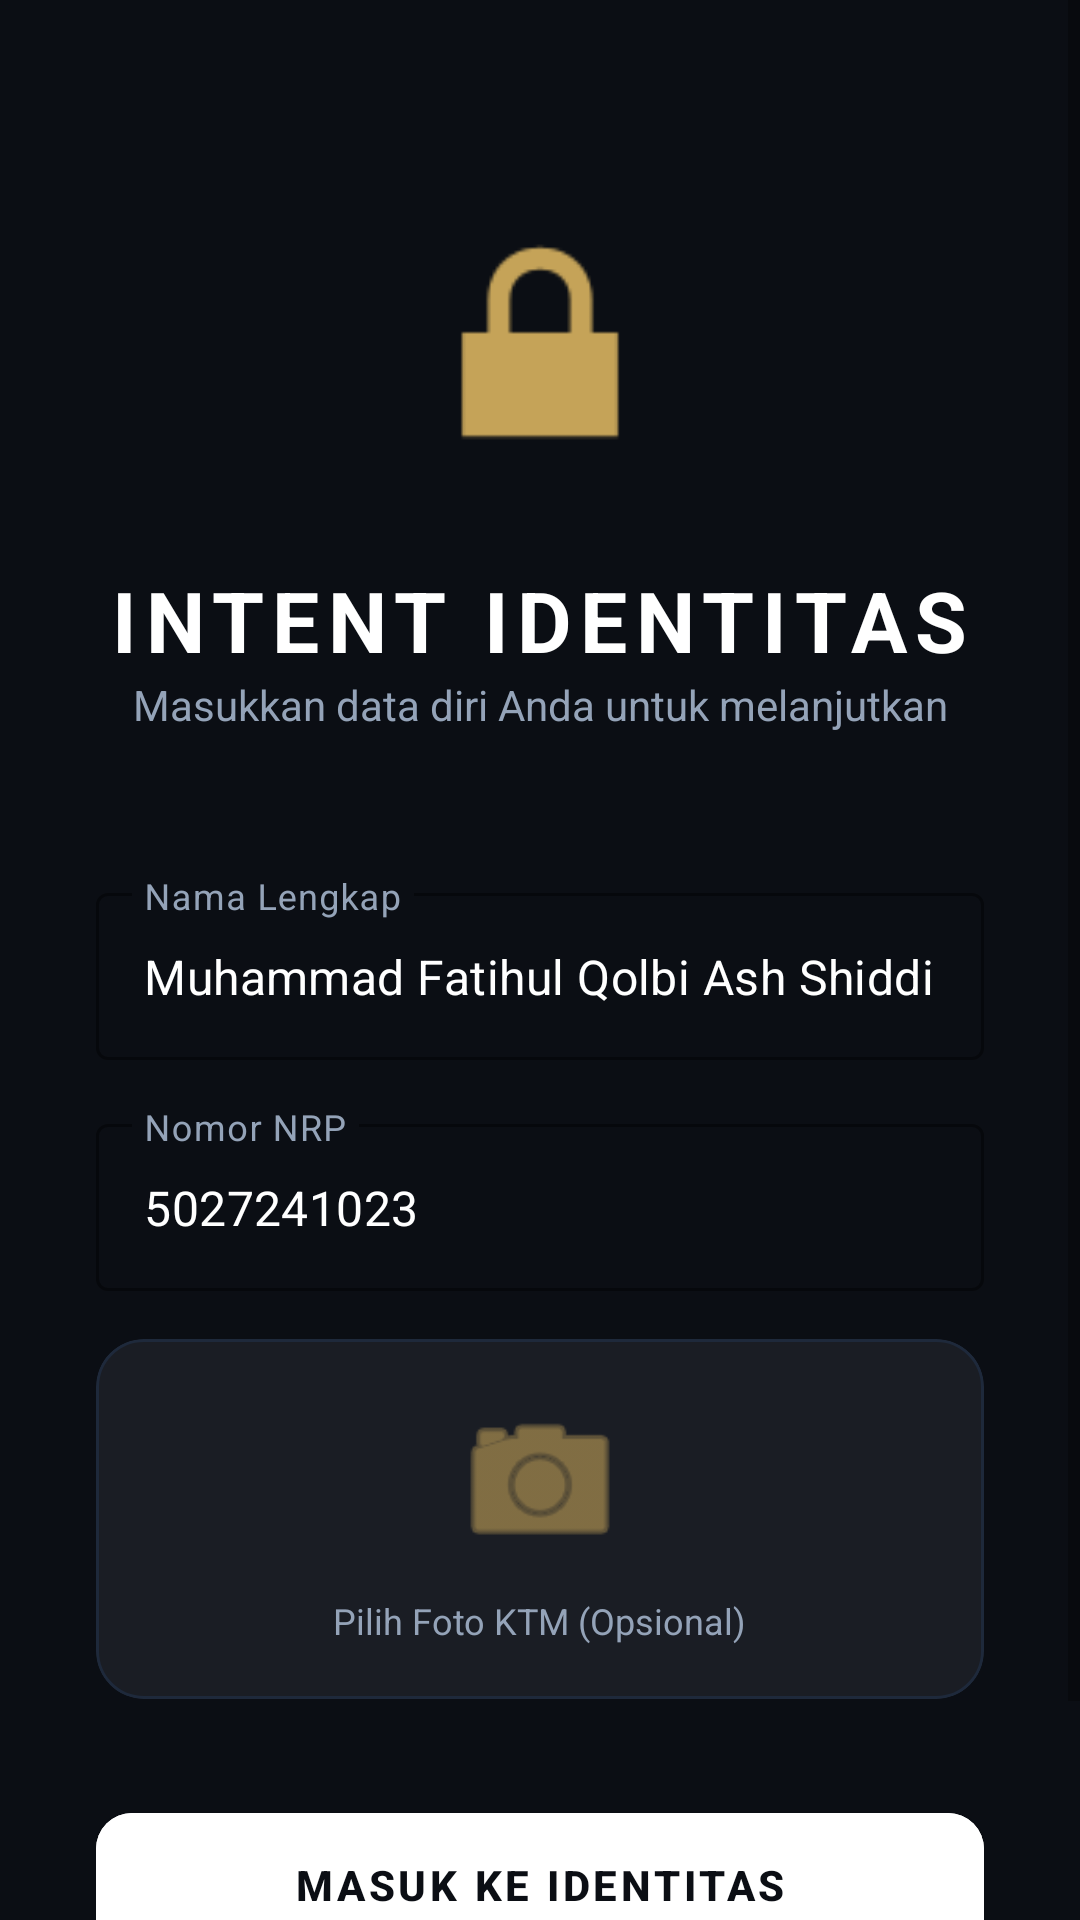

Icon click points for this 1080×1920 phone screenshot, format point (x, y):
camera: point (540, 1479)
lock: point (540, 342)
